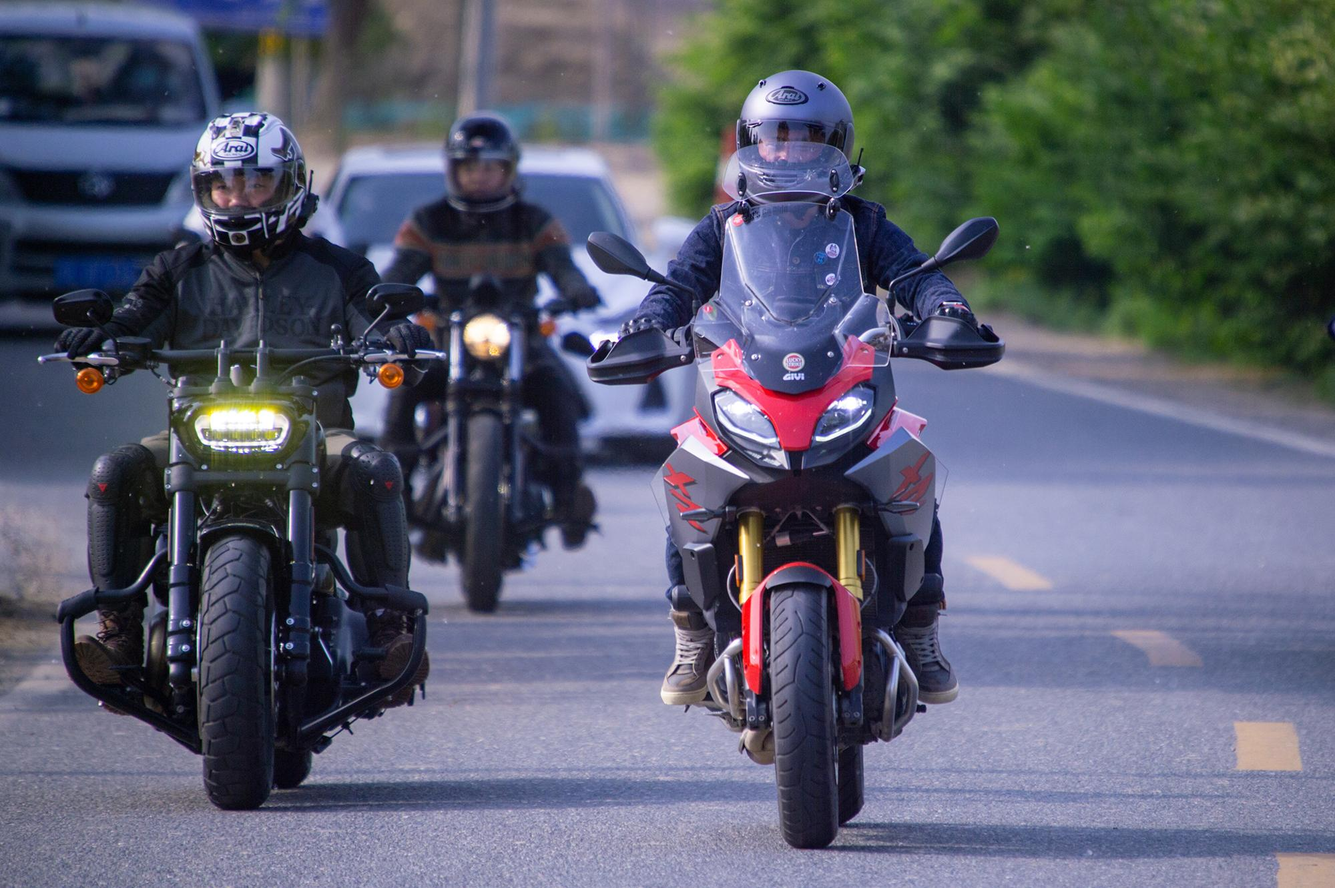helmet: (189, 110, 321, 254), (735, 68, 857, 212), (443, 110, 524, 215)
